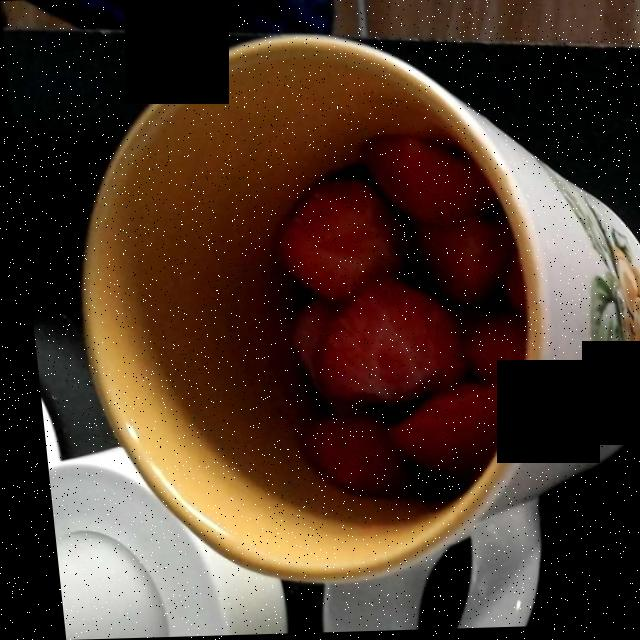strawberries: (278, 138, 512, 499)
